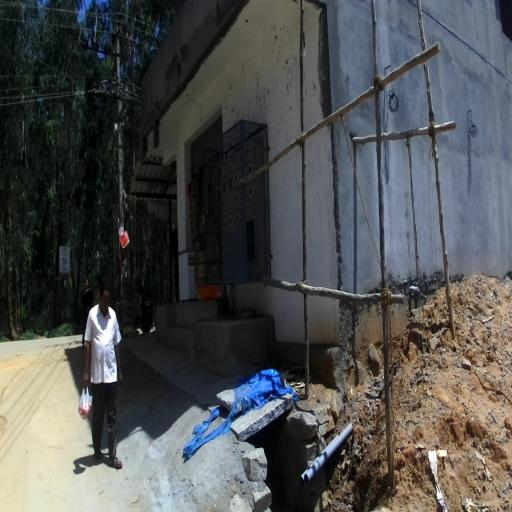street_light_0: (114, 124, 124, 148)
